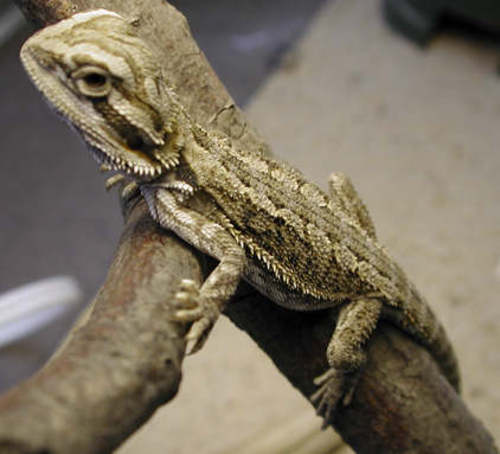bearded: (19, 8, 462, 425)
